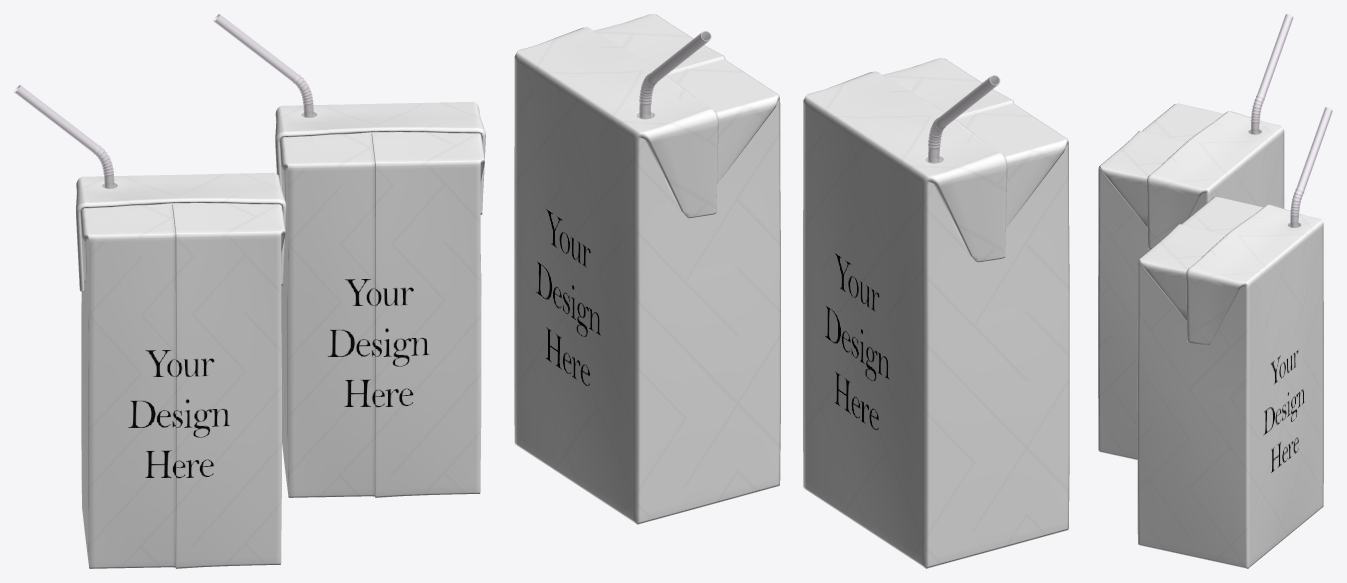
The model's file is Beverage A-2.glb.
3 renders of one model, left to right at view 1: azimuth 30°, elevation 25°; view 2: azimuth 150°, elevation 25°; view 3: azimuth 270°, elevation 25°, orthographic. The views are drawn at different scales.
Parts seen in each view (by area): view 1: Object_2, Object_2.002, Object_3, Object_3.001; view 2: Object_2.002, Object_2, Object_3.001, Object_3; view 3: Object_2.002, Object_2, Object_3, Object_3.001.
Boxes of the visible parts, <box> form: Object_2: <box>76,172,286,568</box>; Object_2.002: <box>275,101,485,497</box>; Object_3: <box>14,85,114,188</box>; Object_3.001: <box>213,14,313,117</box>; Object_2.002: <box>514,14,780,524</box>; Object_2: <box>803,58,1069,568</box>; Object_3.001: <box>639,31,711,118</box>; Object_3: <box>928,75,1000,162</box>; Object_2.002: <box>1137,197,1323,568</box>; Object_2: <box>1098,103,1284,459</box>; Object_3: <box>1250,14,1293,134</box>; Object_3.001: <box>1290,107,1332,227</box>.
Size of the model in its own units: 19.6 by 18.81 by 10.64.
Materials: 3 (1 with a texture image).
